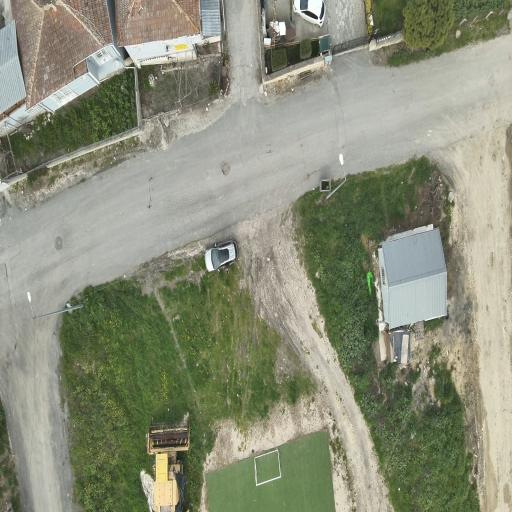car: (205, 240, 238, 271), (293, 0, 325, 27)
harvester: (148, 422, 189, 511)
